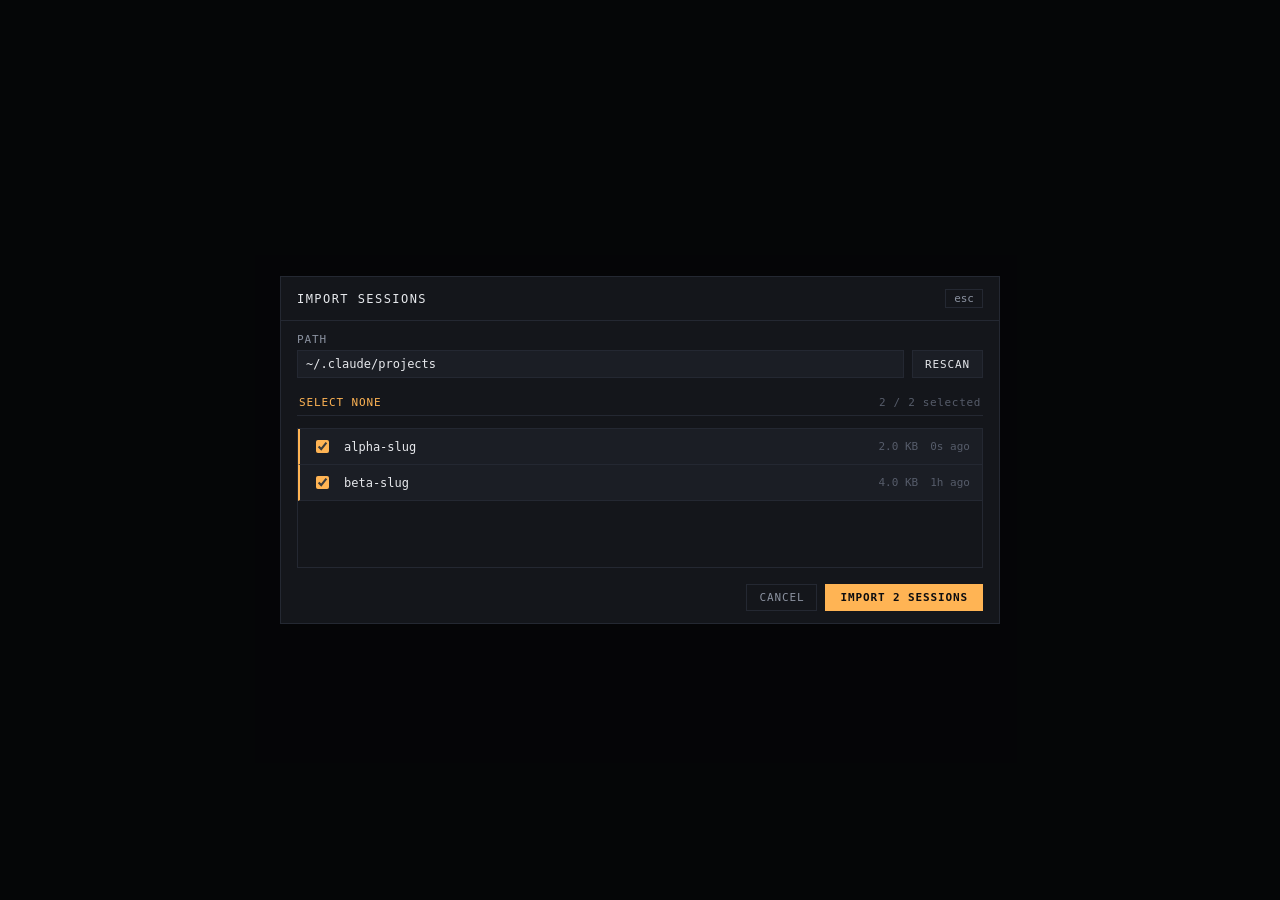
it: ImportDialog (L2.3) › "Import N sessions" label updates as selection changes and disables at 0
expect the button with test id "import-commit-btn" is enabled: met, box [826, 584, 983, 611]
Note: Uncheck one — label shows "1 session"
Click the checkbox with test id "import-checkbox-sess-aaaa".
click(322, 446)  # box [316, 440, 329, 453]
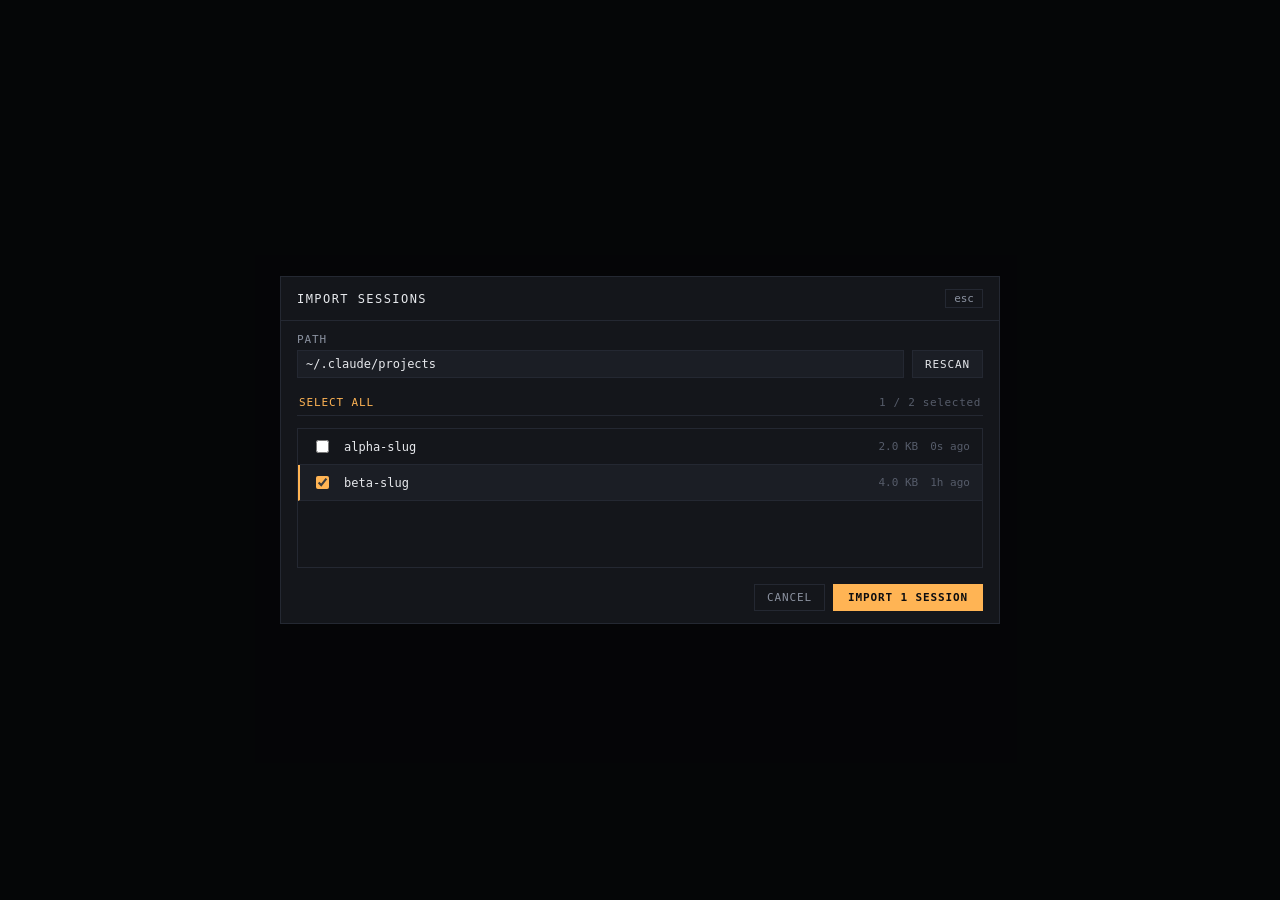
expect the button with test id "import-commit-btn" shows "1 session": met, box [833, 584, 983, 611]
Note: Uncheck the other — button disabled.
Click the checkbox with test id "import-checkbox-sess-bbbb".
click(322, 482)  # box [316, 476, 329, 489]
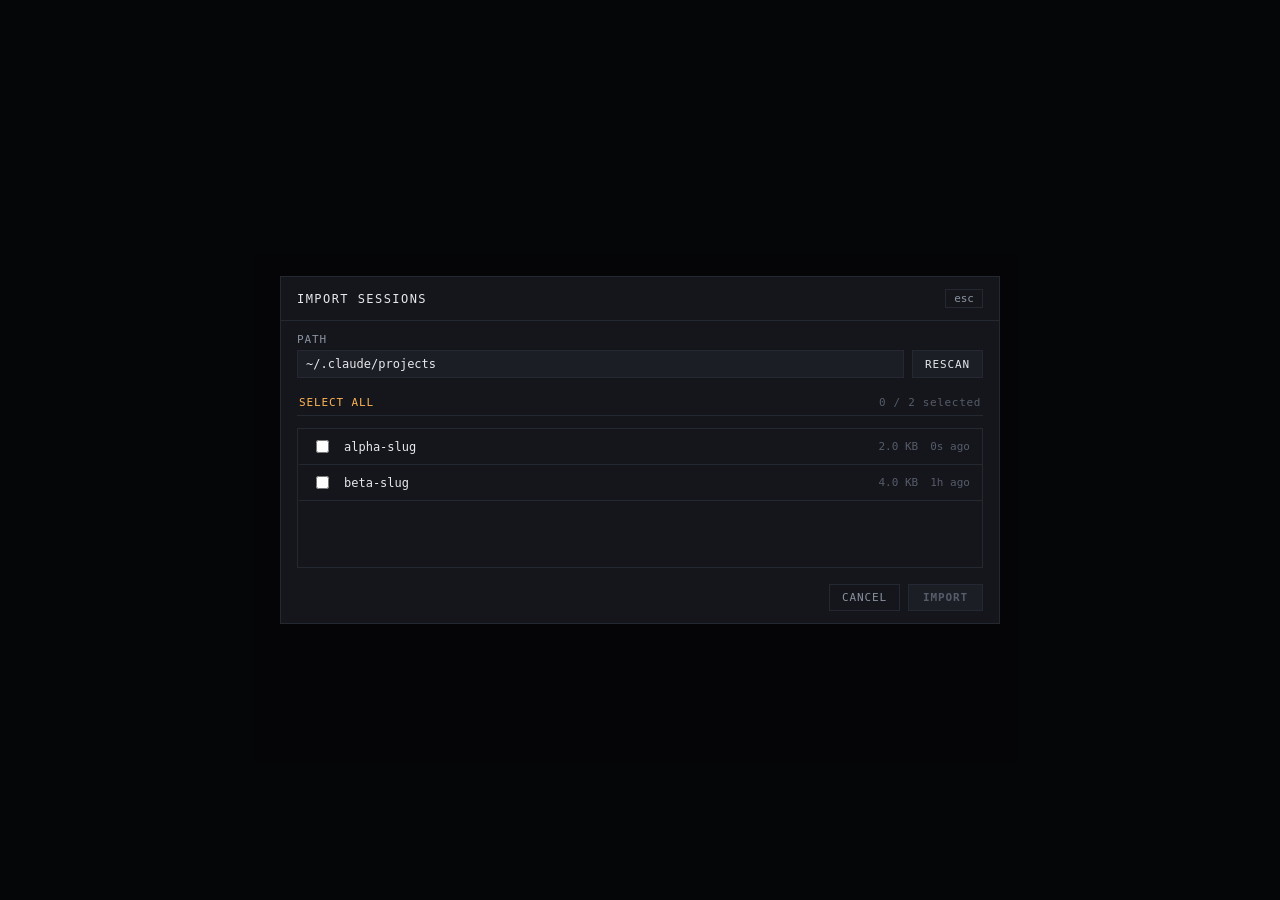
expect the button with test id "import-commit-btn" is disabled: met, box [908, 584, 983, 611]
